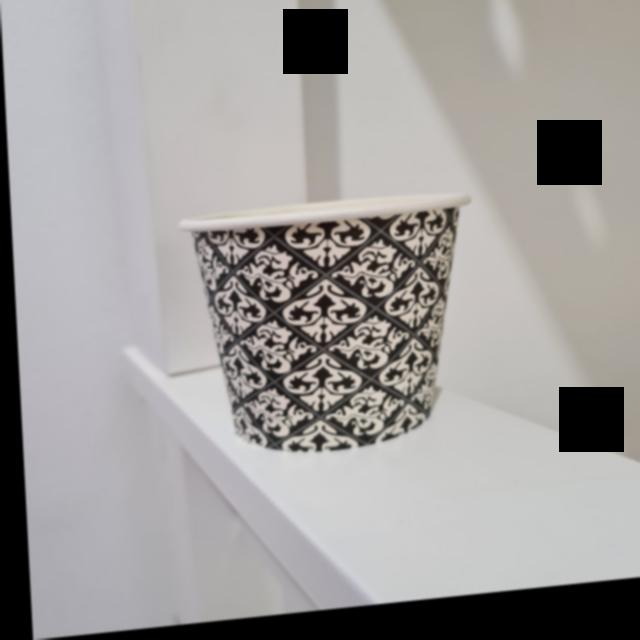cups: (178, 190, 499, 475)
